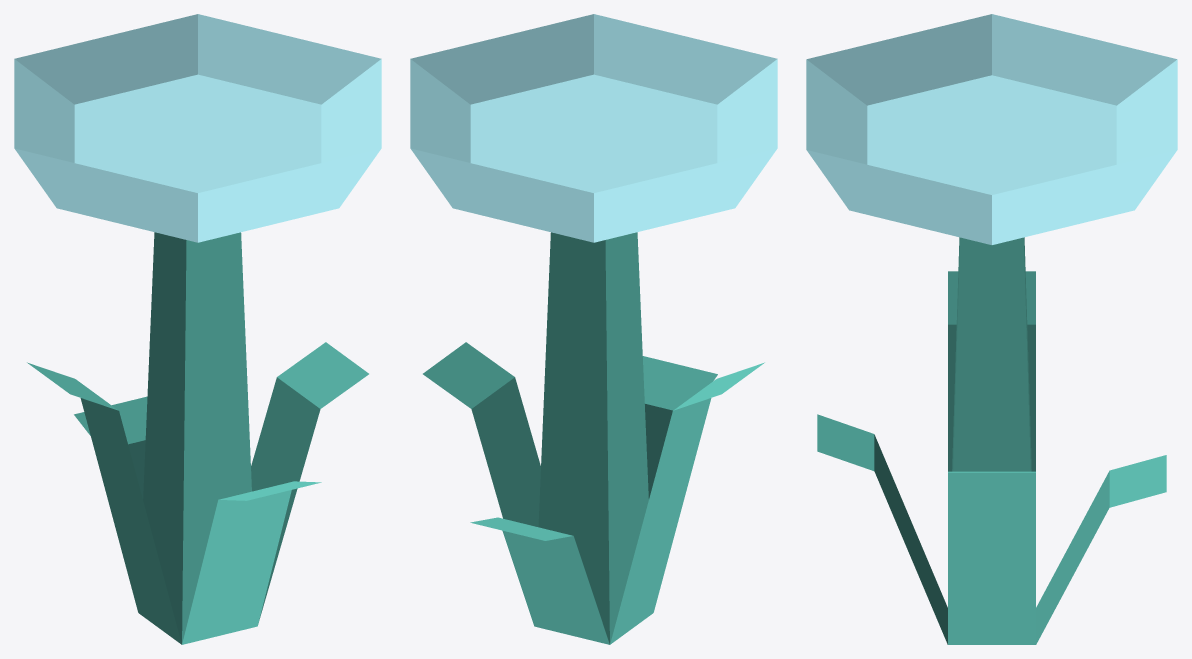
File: flower_blue3.obj
3 views of the same model, side by side, from view 1: azimuth 30°, elevation 25°; view 2: azimuth 150°, elevation 25°; view 3: azimuth 270°, elevation 25° (orthographic).
Visible parts, largest first — view 1: flower_blue3; view 2: flower_blue3; view 3: flower_blue3.
Boxes of the visible parts, box(x1,y1,x2,y2) form: flower_blue3: box(14, 14, 381, 644); flower_blue3: box(410, 14, 777, 644); flower_blue3: box(806, 14, 1177, 644).
Size of the model in its own units: 1.51 by 2.03 by 1.31.
